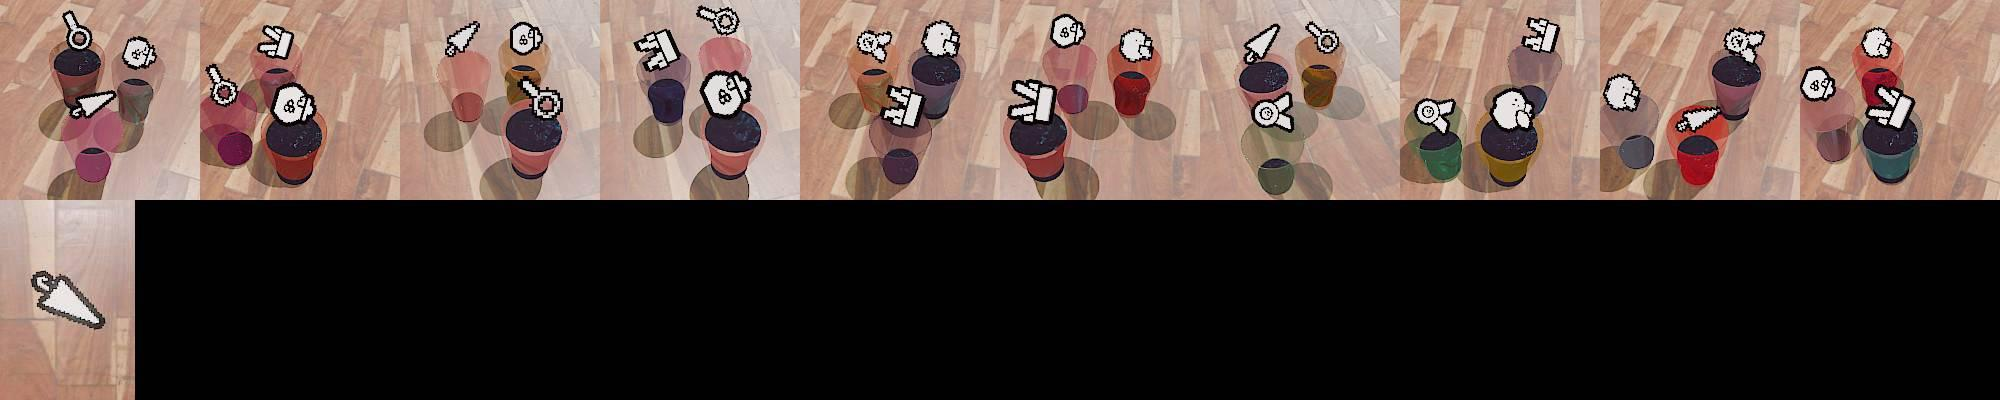icon: (29, 268, 107, 330), (699, 69, 752, 119), (1008, 78, 1056, 129), (516, 74, 564, 120), (633, 26, 682, 71), (1489, 87, 1538, 131), (881, 84, 928, 128), (1869, 85, 1916, 129), (1250, 91, 1295, 133), (270, 84, 317, 124), (1412, 95, 1457, 134), (1243, 22, 1282, 64), (68, 89, 118, 121), (696, 3, 741, 38), (1522, 16, 1562, 55), (920, 19, 960, 58), (205, 63, 240, 107), (1722, 26, 1766, 60), (1303, 20, 1343, 57), (444, 21, 482, 59), (1604, 73, 1642, 111), (257, 23, 295, 60), (855, 27, 894, 63), (1050, 13, 1087, 50), (1676, 104, 1722, 133), (62, 9, 93, 52), (1800, 66, 1837, 101), (1119, 27, 1155, 62), (121, 36, 157, 71), (508, 21, 544, 56), (1860, 28, 1894, 59)
